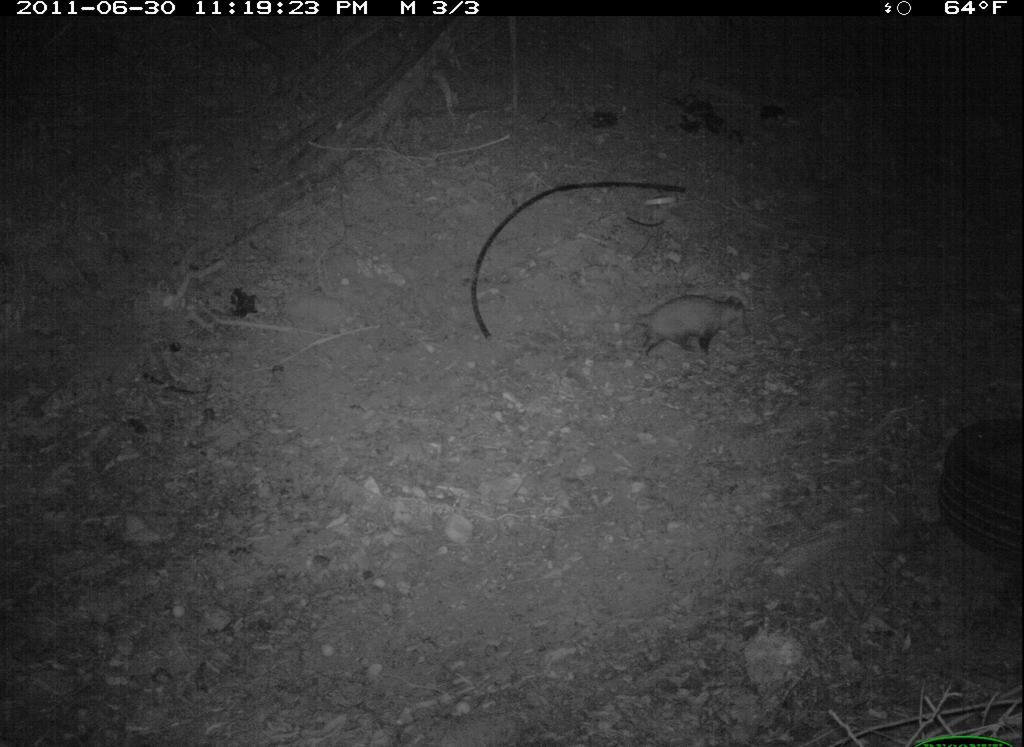opossum: (607, 296, 756, 364)
